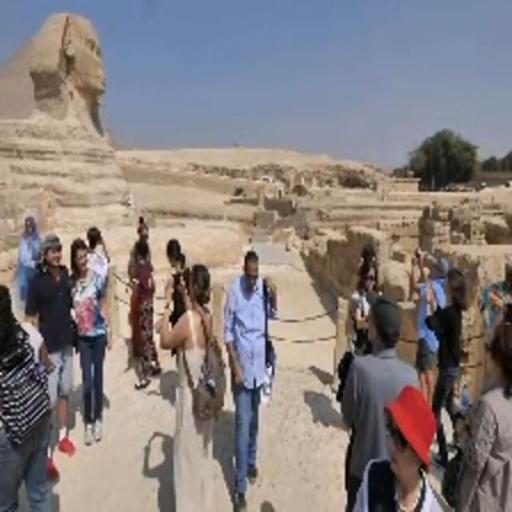nao-violencia: (15, 227, 114, 459)
